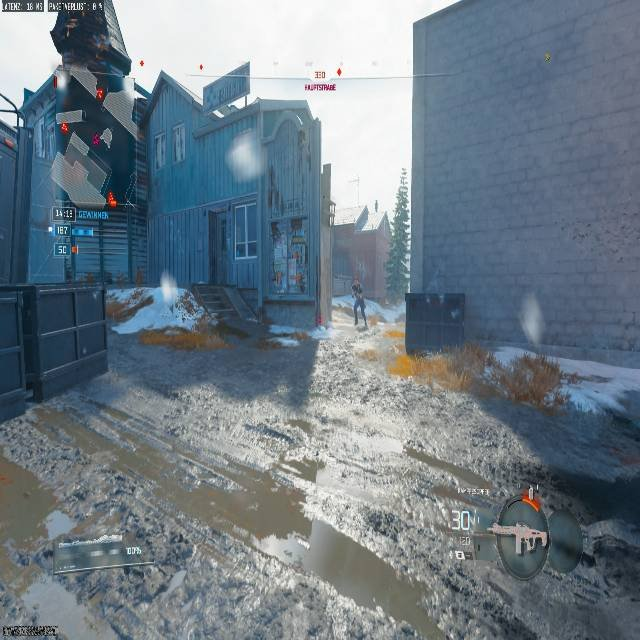head: (353, 279, 360, 287)
player: (351, 279, 367, 327)
